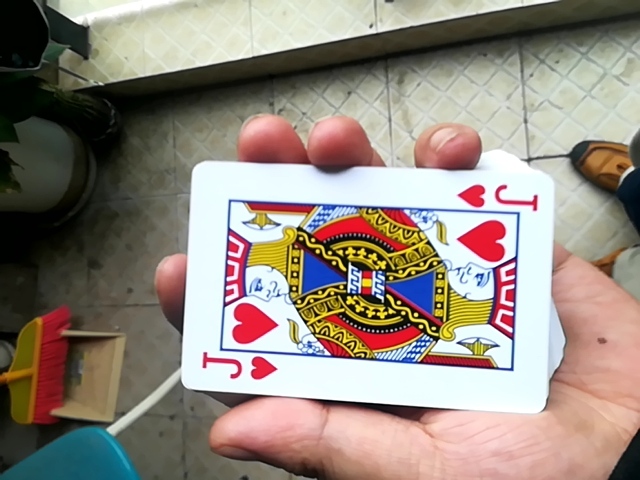hx j: (170, 148, 561, 419)
